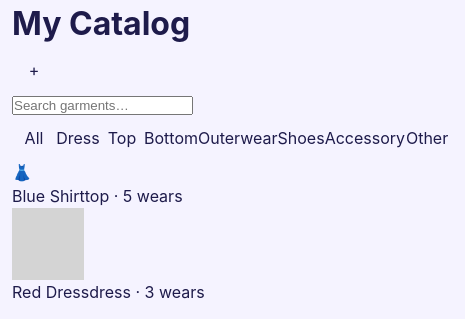
Catalog › clicking "All" after a category filter shows all garments again
Expected: the text "Blue Shirt" is shown, [12, 186, 85, 206]
// Filter to Top only
Click the button "Top": (122, 138) [100, 116, 144, 160]
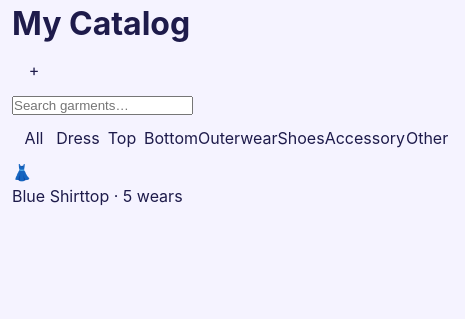
Result: the button "Red Dress" is gone
// Switch back to All
Click the button "All": (34, 138) [12, 116, 56, 160]
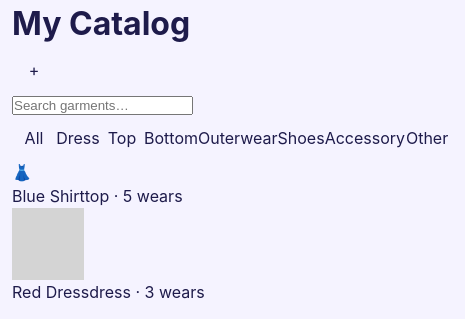
Expected: the text "Blue Shirt" is shown, [12, 186, 85, 206]
Result: the text "Red Dress" is shown at [12, 282, 89, 302]
